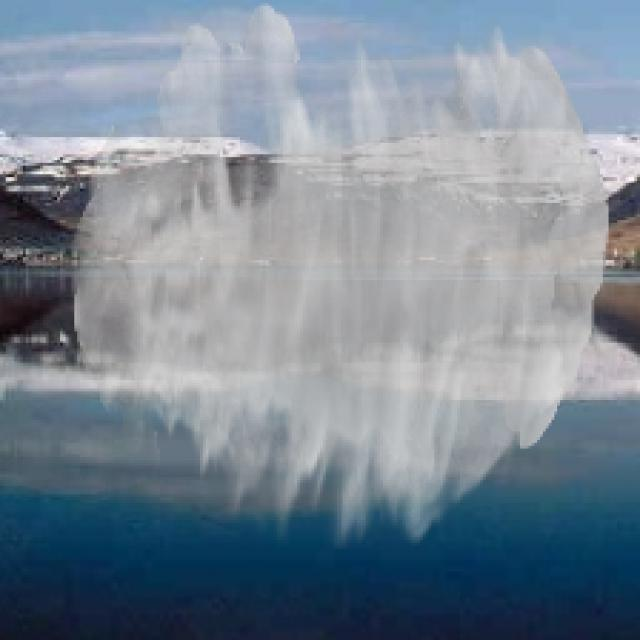Smoke: (71, 2, 608, 548)
